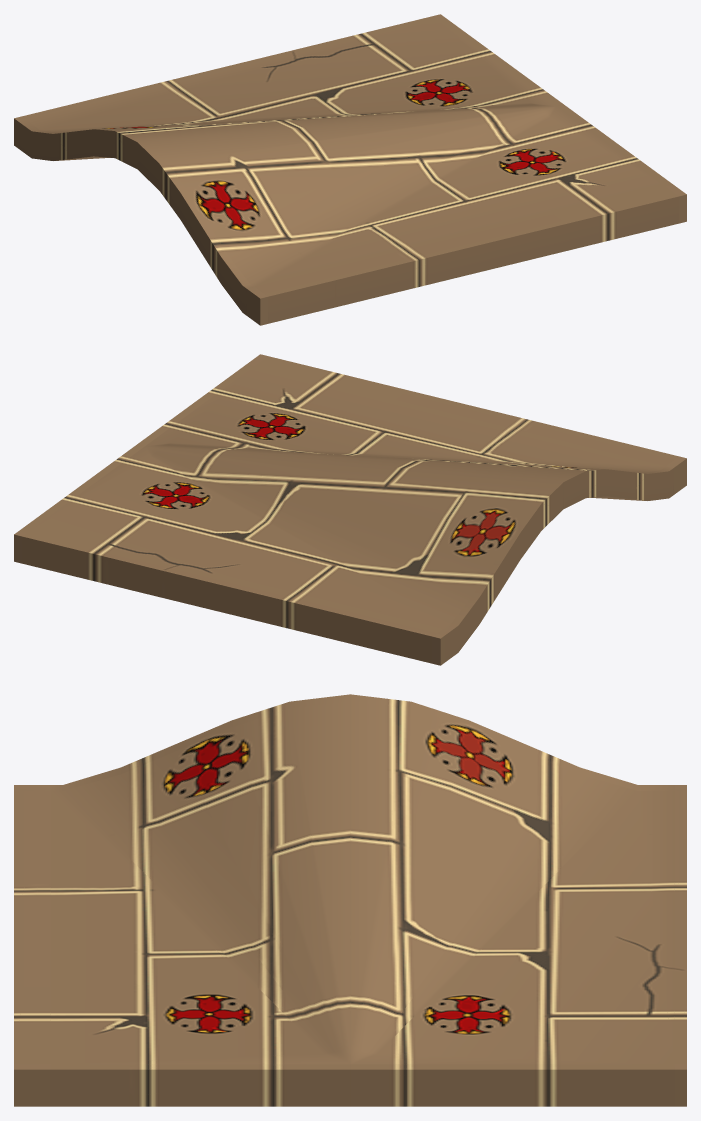
The model's file is egypt_sidebend_2.gltf.
3 views of the same model, one above another, from view 1: azimuth 30°, elevation 25°; view 2: azimuth 150°, elevation 25°; view 3: azimuth 270°, elevation 25° (orthographic). The views are drawn at different scales.
Parts seen in each view (by area): view 1: egypt_sidebend_2_glb; view 2: egypt_sidebend_2_glb; view 3: egypt_sidebend_2_glb.
Part boxes in pixels (left/top/right/bottom): egypt_sidebend_2_glb: left=14, top=14, right=686, bottom=325; egypt_sidebend_2_glb: left=14, top=354, right=686, bottom=665; egypt_sidebend_2_glb: left=14, top=694, right=686, bottom=1106.
Size of what is drawn, in the model's own units: 4 by 0.8385 by 4.
1 material, 1 textured.
